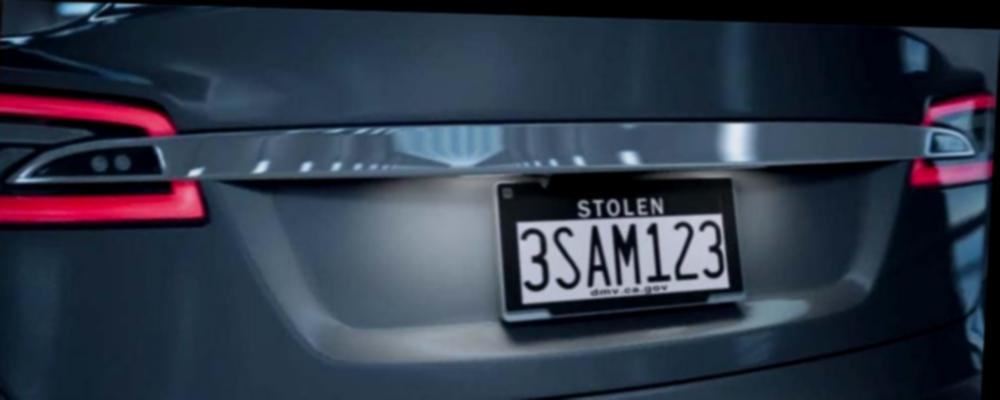License_Plate: (510, 210, 733, 310)
